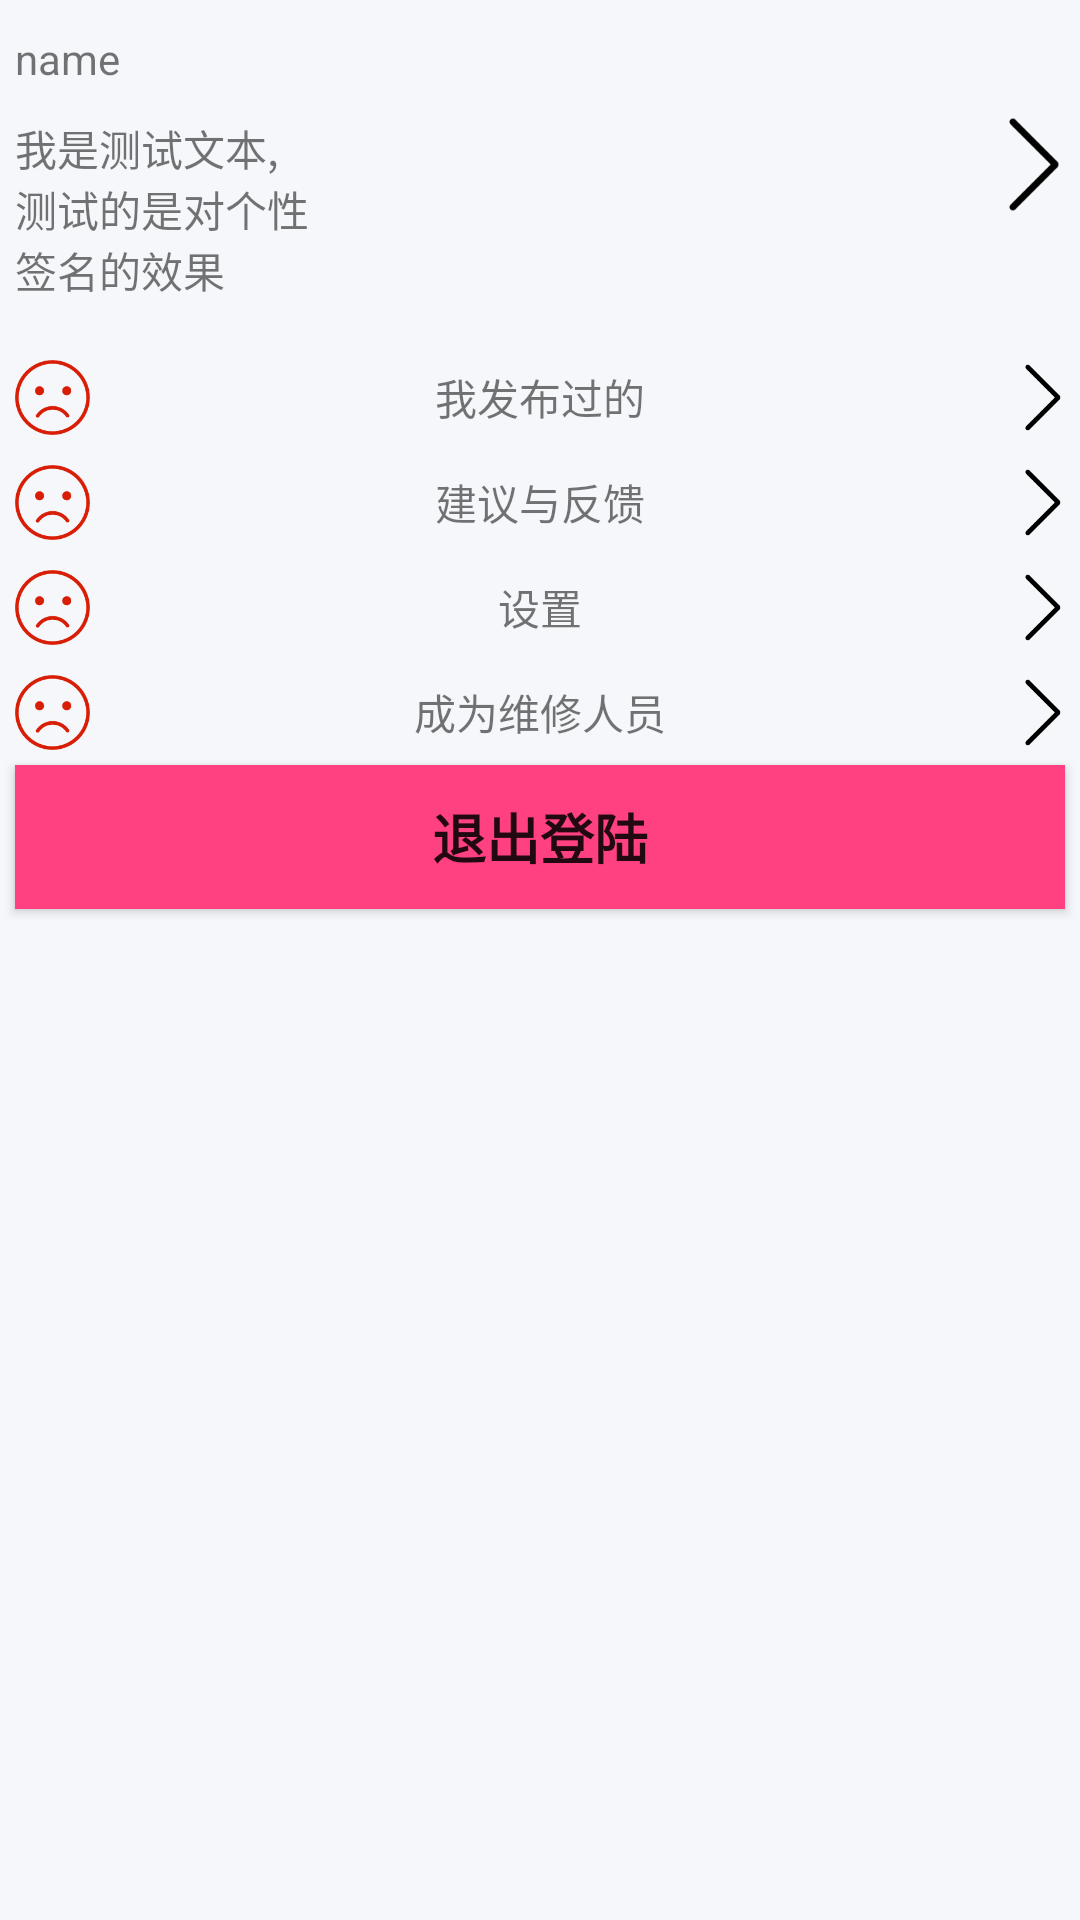

Named icons in this screenshot (1080 × 1920) and their centers, (x=x, y=y):
cry: (x=52, y=397), (x=52, y=502), (x=52, y=607), (x=52, y=712)
